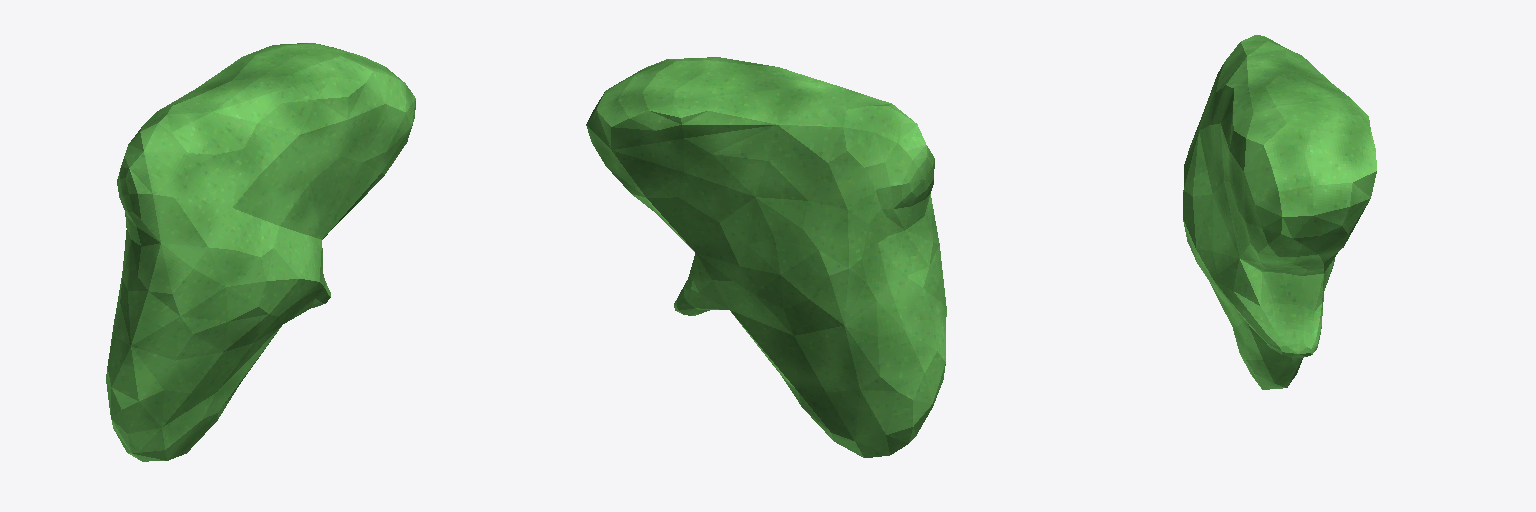
The picture shows the model from 3 angles: view 1: azimuth 30°, elevation 25°; view 2: azimuth 150°, elevation 25°; view 3: azimuth 270°, elevation 25°; orthographic projection.
Visible parts, largest first — view 1: art_bubble_Icosphere; view 2: art_bubble_Icosphere; view 3: art_bubble_Icosphere.
Boxes of the visible parts, x1,y1,x2,y2 form: art_bubble_Icosphere: [106, 43, 415, 461]; art_bubble_Icosphere: [586, 57, 946, 457]; art_bubble_Icosphere: [1183, 35, 1376, 389].
Bounding box in the file's own units: 2.95 × 3.14 × 1.54.
1 materials, 1 textured.